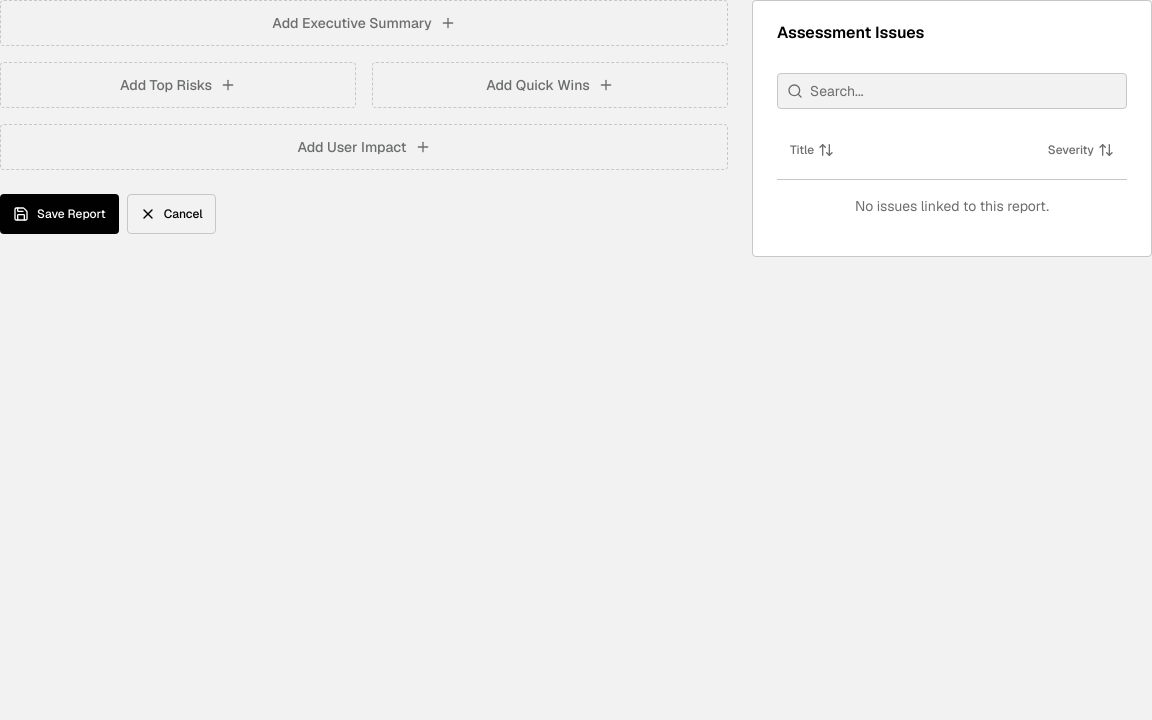
Test: ReportEditForm › shows delete modal when trash icon clicked
This screenshot has width=1152, height=720.
What coordinates should you click on to do the following:
click the button "Add Executive Summary"
I would click on:
 (364, 23)
Its box is [0,0,728,46].
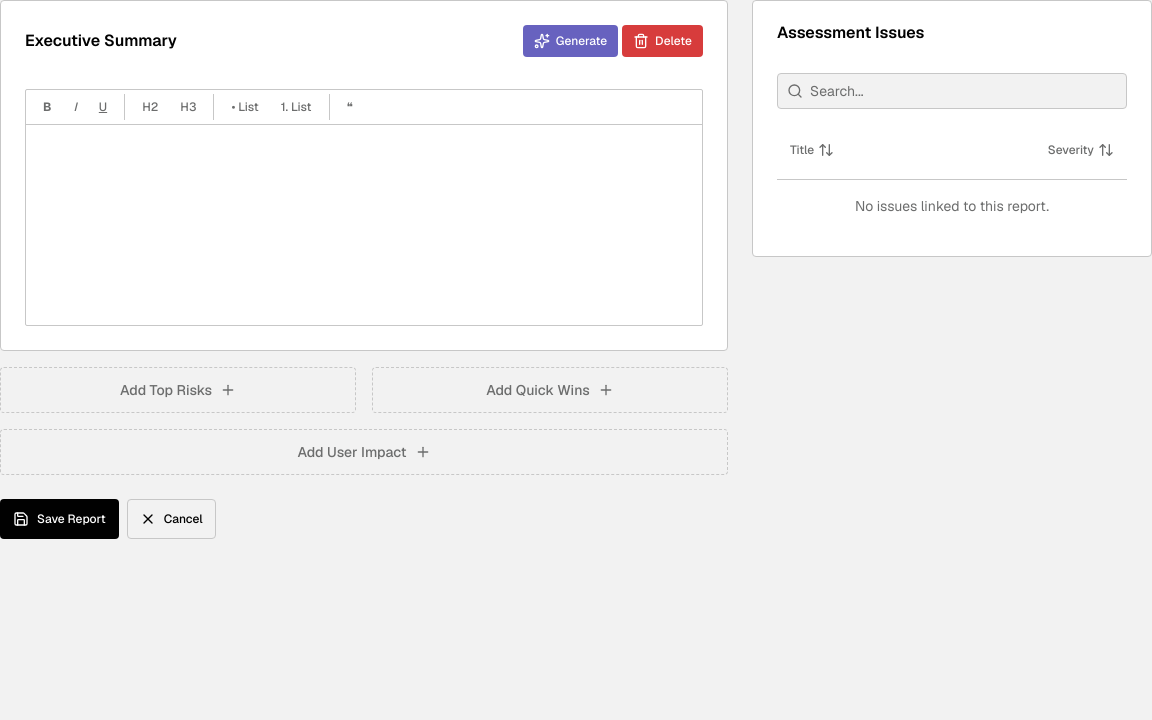
What coordinates should you click on to do the following:
click the button "Delete"
I would click on:
 (663, 41)
Its box is [622,25,703,57].
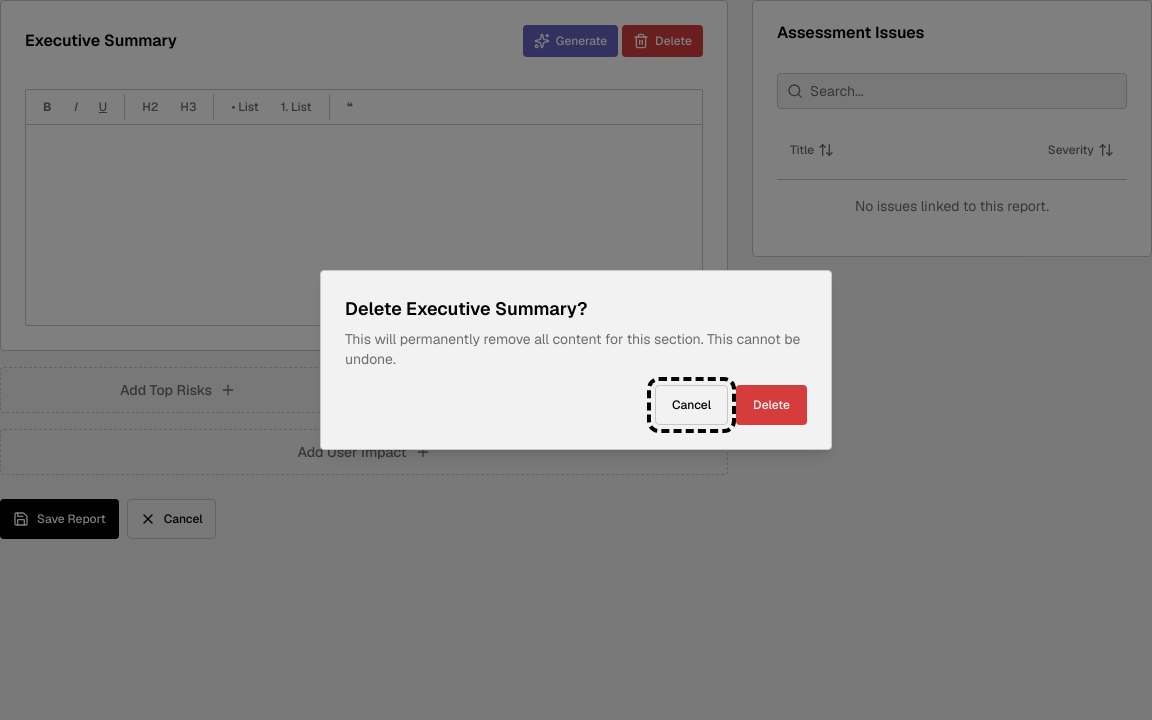
Result: the text "permanently remove" is shown at [345,330,800,368]
